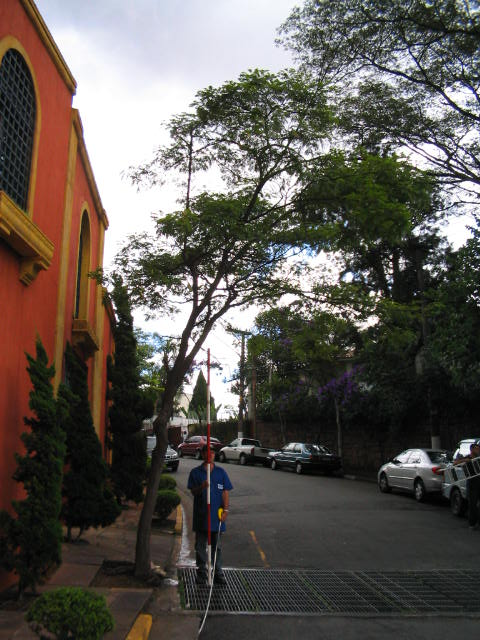crown: (89, 67, 438, 329)
stem: (126, 360, 193, 579)
stick: (200, 349, 215, 589)
tree: (86, 66, 438, 579)
